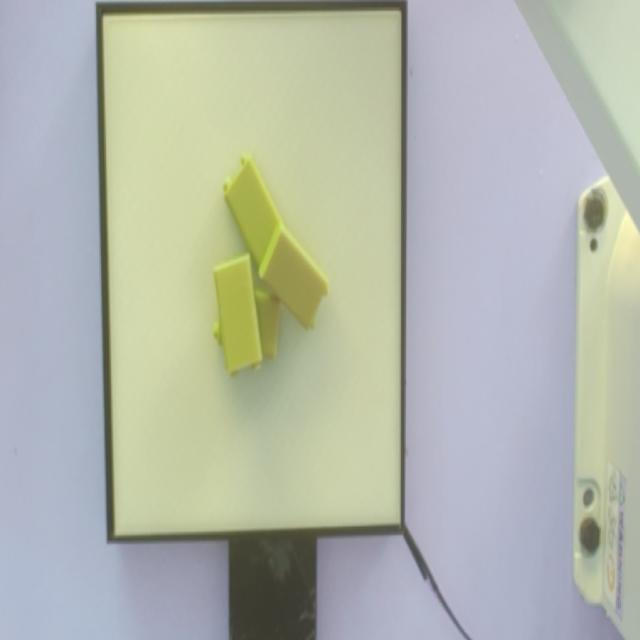bateria: (258, 221, 329, 331), (213, 252, 264, 378)
mesa: (96, 2, 407, 542)
